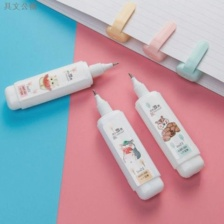correction_fluid: (126, 69, 206, 182), (90, 86, 166, 203), (2, 57, 122, 115)
